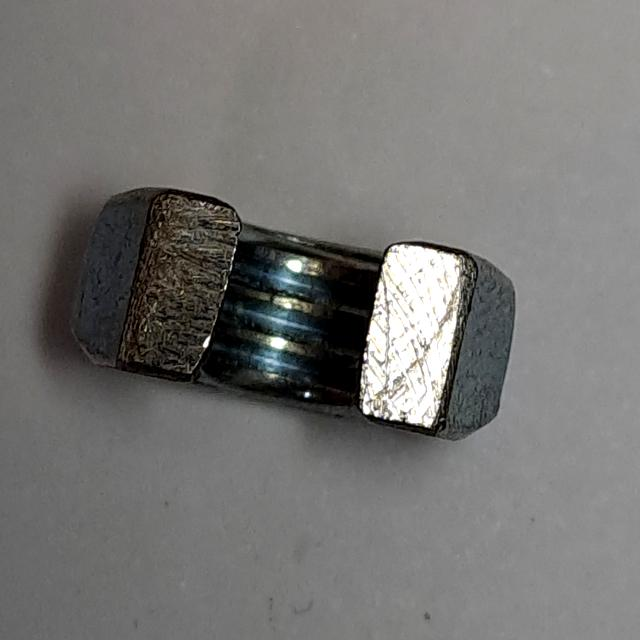Side-Fracture: (57, 171, 530, 472)
